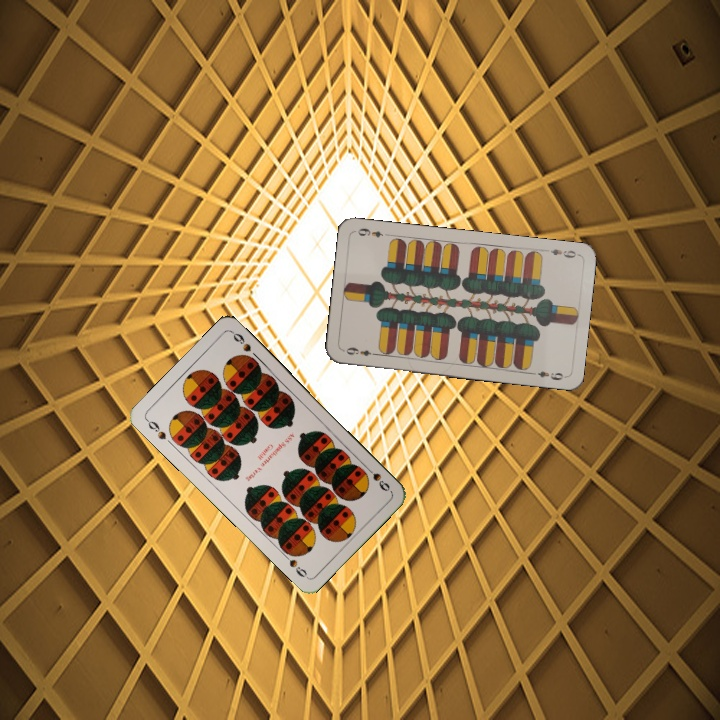E9: (540, 245, 581, 261), (342, 343, 380, 359)
S9: (361, 462, 393, 494), (142, 415, 169, 442)
